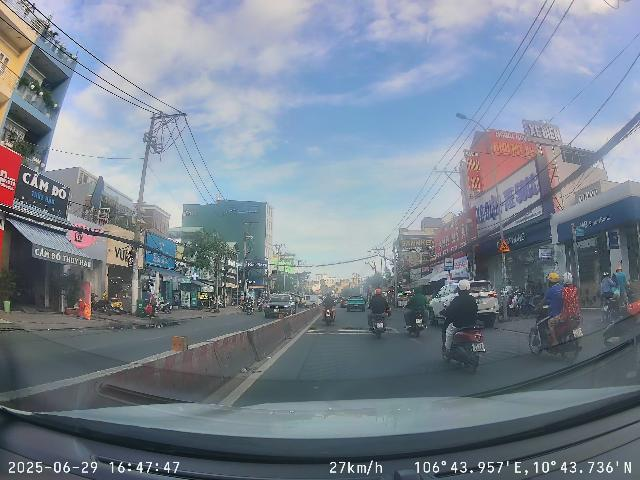224-duong-nguoi-di-bo-cat-ngang: (498, 238, 511, 253)
